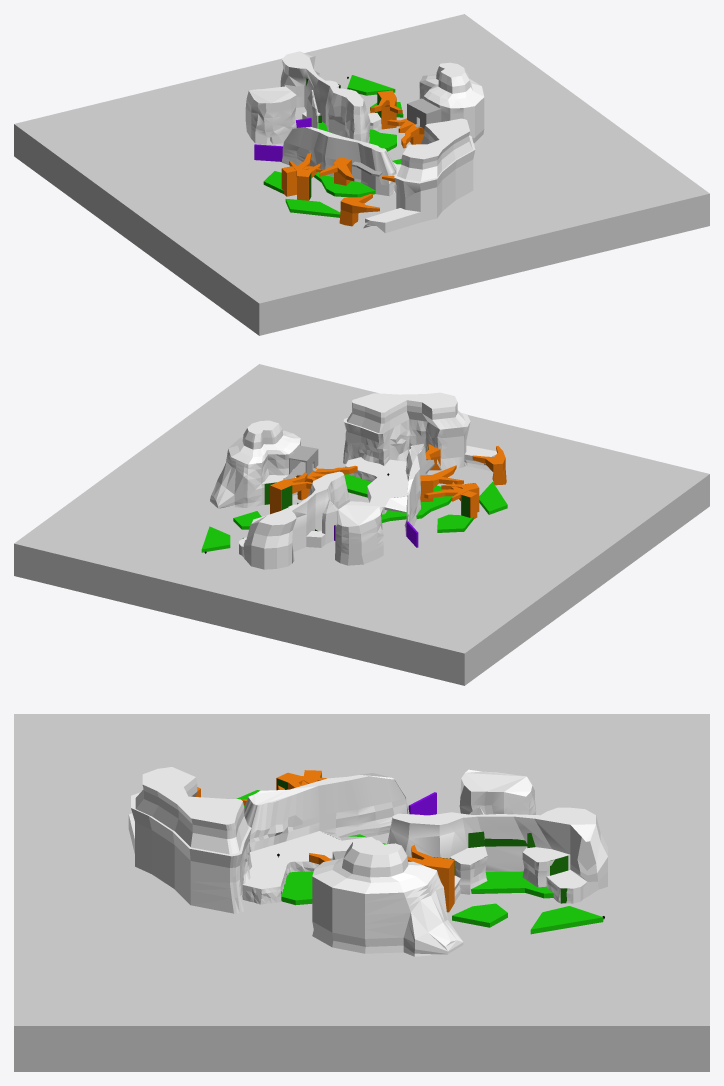
File: Terrain_Modif_02.fbx
3 renders of one model, top to bottom at view 1: azimuth 30°, elevation 25°; view 2: azimuth 150°, elevation 25°; view 3: azimuth 270°, elevation 25°, orthographic. The views are drawn at different scales.
Visible parts, largest first — view 1: Box001, Terrain__tier_1_, Tree_House, Tree__3_, GZ_A_8, GZ_A_9, Tree__5_, Tree__1_, Tree__6_, Tree__2_, GZ_A; view 2: Box001, Terrain__tier_1_, Object001, Tree_House, Tree__5_, Tree__2_, Tree__3_, Tree__1_, GZ_A_9, GZ_A_7, GZ_A, Tree__6_; view 3: Box001, Terrain__tier_1_, Object001, GZ_A, Tree__5_, GZ_A_1, GZ_A_6, GZ_A_2.
Boxes of the visible parts, x1,y1,x2,y2 form: Box001: (14, 14, 709, 335); Terrain__tier_1_: (245, 51, 484, 233); Tree_House: (407, 98, 441, 128); Tree__3_: (339, 194, 379, 226); GZ_A_8: (321, 179, 375, 197); GZ_A_9: (285, 199, 340, 217); Tree__5_: (370, 90, 402, 129); Tree__1_: (289, 152, 320, 200); Tree__6_: (387, 118, 424, 148); Tree__2_: (319, 157, 354, 185); GZ_A: (347, 75, 395, 95); Box001: (14, 364, 709, 685); Terrain__tier_1_: (210, 392, 505, 569); Object001: (239, 457, 408, 547); Tree_House: (289, 445, 318, 475); Tree__5_: (270, 472, 312, 514); Tree__2_: (420, 465, 463, 501); Tree__3_: (472, 446, 506, 485); Tree__1_: (424, 483, 479, 512); GZ_A_9: (479, 482, 507, 514); GZ_A_7: (437, 514, 473, 532); GZ_A: (201, 526, 230, 552); Tree__6_: (296, 465, 357, 500); Box001: (14, 714, 709, 1071); Terrain__tier_1_: (128, 767, 607, 956); Object001: (243, 831, 586, 889); GZ_A: (530, 906, 603, 934); Tree__5_: (407, 845, 454, 912); GZ_A_1: (471, 871, 526, 893); GZ_A_6: (281, 871, 313, 905); GZ_A_2: (452, 903, 507, 927).
Bounding box in the file's own units: 26784 × 5594 × 25255.
